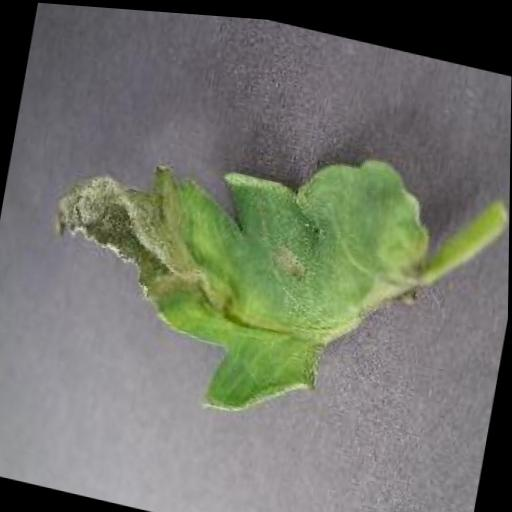Late Blight: (28, 85, 443, 453)
